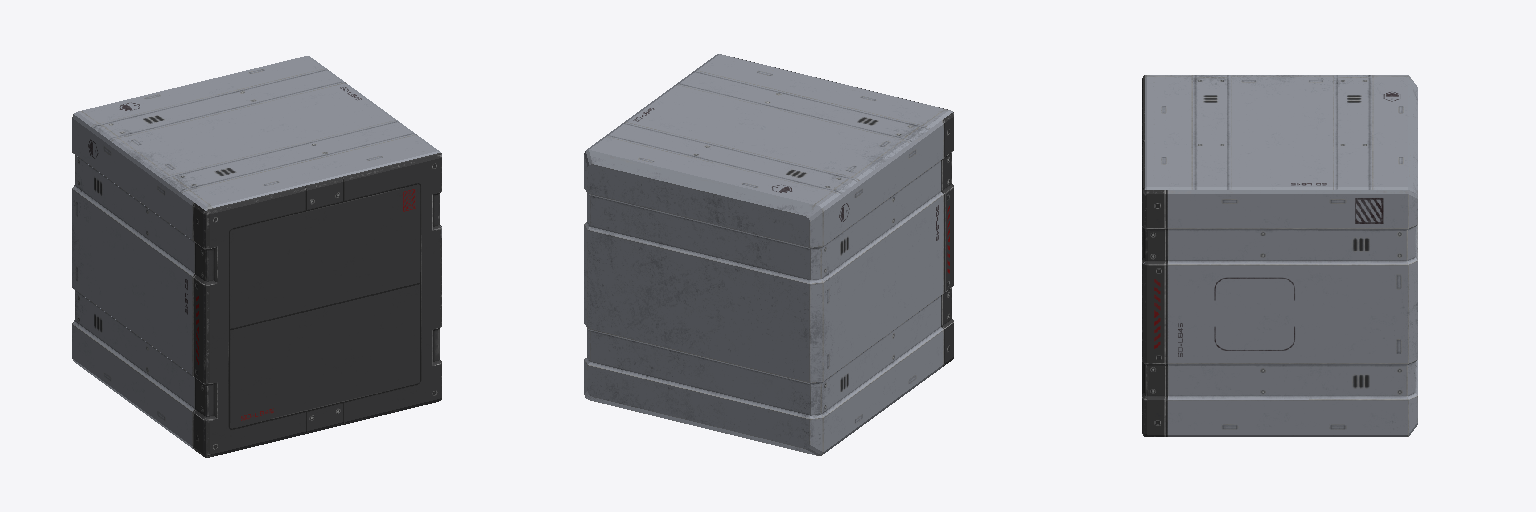
3 renders of one model, left to right at view 1: azimuth 30°, elevation 25°; view 2: azimuth 150°, elevation 25°; view 3: azimuth 270°, elevation 25°, orthographic.
Visible parts, largest first — view 1: Crate_1__Default_0; view 2: Crate_1__Default_0; view 3: Crate_1__Default_0.
Part boxes in pixels (bbox=[...]): Crate_1__Default_0: bbox=[72, 56, 441, 457]; Crate_1__Default_0: bbox=[584, 54, 953, 455]; Crate_1__Default_0: bbox=[1142, 75, 1417, 436].
Bounding box in the file's own units: 1 × 1 × 1.
1 materials, 1 textured.